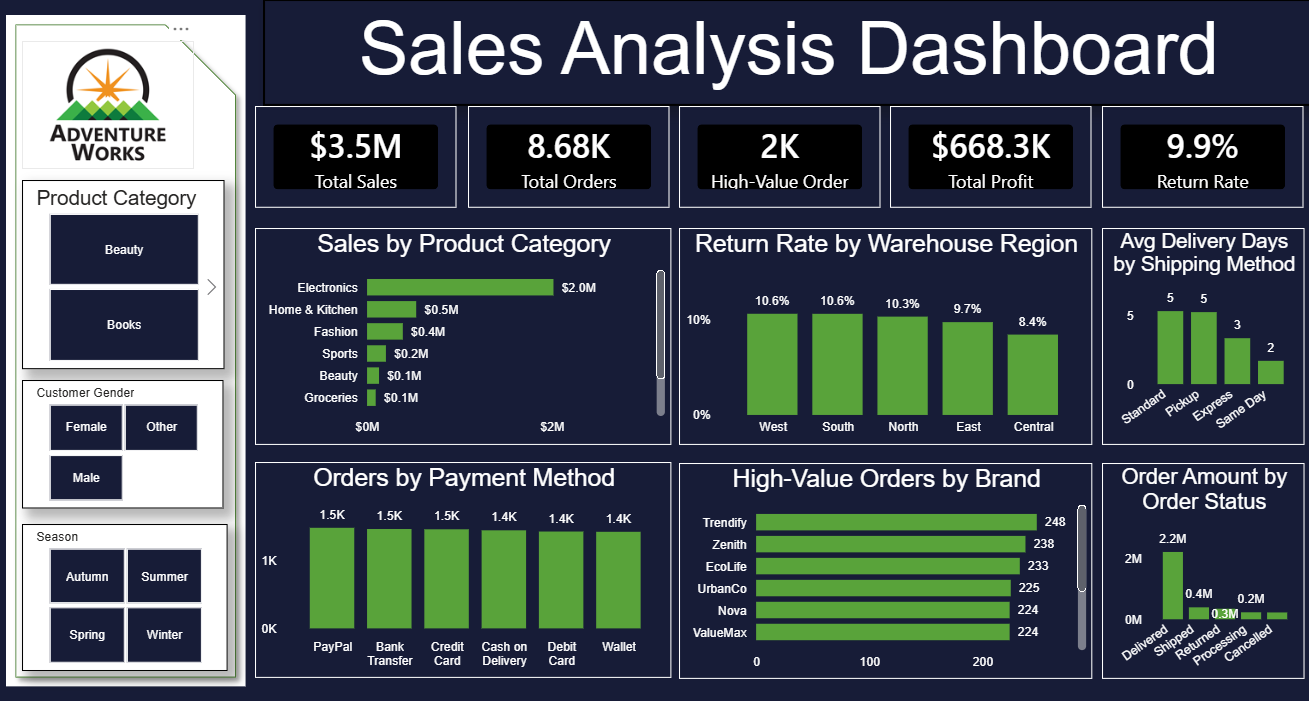

The dashboard page shown, as its layout file describes it:
{"tool":"powerbi","page":{"name":"Page 2","canvas":[1280,720],"ordinal":2},"visuals":[{"type":"shape","box":[7,48,232.8,653.5],"z":0},{"type":"textbox","box":[256.8,32.1,1023.2,104.1],"z":1000},{"type":"image","box":[22,72.9,167.3,124.5],"z":2000},{"type":"cardVisual","fields":{"Data":["Sum(dataset.Total Sale)"]},"box":[249,136.2,196.5,99.2],"z":3000},{"type":"cardVisual","fields":{"Data":["Sum(dataset.Profit_Amount)"]},"box":[866.6,136.2,196.5,99.2],"z":4000},{"type":"cardVisual","fields":{"Data":["dataset.Total High Value Order"]},"box":[661.4,136.2,196.5,99.2],"z":5000},{"type":"cardVisual","fields":{"Data":["dataset.total orders"]},"box":[456.2,136.2,196.5,99.2],"z":6000},{"type":"cardVisual","fields":{"Data":["dataset.return rate"]},"box":[1072.8,136.2,196.5,99.2],"z":7000},{"type":"slicer","fields":{"Values":["dataset.Product_Category"]},"box":[22,207.8,196.8,183.9],"z":8000},{"type":"slicer","fields":{"Values":["dataset.Customer_Gender"]},"box":[22.4,402.7,196.5,125.5],"z":9000},{"type":"slicer","fields":{"Values":["dataset.Season"]},"box":[22.4,542.7,200.4,143],"z":10000},{"type":"clusteredBarChart","title":"Sales by Product Category","fields":{"Category":["dataset.Product_Category"],"Y":["Sum(dataset.Total Sale)"]},"box":[248.8,254.8,404.7,210.8],"z":11000},{"type":"clusteredColumnChart","title":"Return Rate by Warehouse Region","fields":{"Category":["dataset.Warehouse_Region"],"Y":["dataset.return rate"]},"box":[661.5,254.8,401.7,210.8],"z":12000},{"type":"clusteredColumnChart","title":"Orders by Payment Method","fields":{"Category":["dataset.Payment_Method"],"Y":["dataset.total orders"]},"box":[248.8,482.6,404.7,209.8],"z":13000},{"type":"barChart","title":"High-Value Orders by Brand","fields":{"Y":["dataset.Total High Value Order"],"Category":["dataset.Brand"]},"box":[661,483,402,210],"z":14000},{"type":"columnChart","title":"Avg Delivery Days by Shipping Method","fields":{"Category":["dataset.Shipping_Method"],"Y":["dataset.Avg Delivery Days"]},"box":[1073.2,254.8,196.8,210.8],"z":15000},{"type":"clusteredColumnChart","title":"Order Amount by Order Status","fields":{"Category":["dataset.Order_Status"],"Y":["Sum(dataset.Order_Amount)"]},"box":[1073,483,197,210],"z":16000}]}

Visuals, with their boxes on the page's 1280x720 design canvas (x1, y1, x2, y2). These are canvas units, not pixel positions in the 1309x701 screenshot, which may show the page scaled, cropped or inside an application window:
shape: l=7, t=48, r=240, b=702
textbox: l=257, t=32, r=1280, b=136
image: l=22, t=73, r=189, b=197
cardVisual - Sum(dataset.Total Sale): l=249, t=136, r=446, b=235
cardVisual - Sum(dataset.Profit_Amount): l=867, t=136, r=1063, b=235
cardVisual - dataset.Total High Value Order: l=661, t=136, r=858, b=235
cardVisual - dataset.total orders: l=456, t=136, r=653, b=235
cardVisual - dataset.return rate: l=1073, t=136, r=1269, b=235
slicer - dataset.Product_Category: l=22, t=208, r=219, b=392
slicer - dataset.Customer_Gender: l=22, t=403, r=219, b=528
slicer - dataset.Season: l=22, t=543, r=223, b=686
"Sales by Product Category" clusteredBarChart: l=249, t=255, r=654, b=466
"Return Rate by Warehouse Region" clusteredColumnChart: l=662, t=255, r=1063, b=466
"Orders by Payment Method" clusteredColumnChart: l=249, t=483, r=654, b=692
"High-Value Orders by Brand" barChart: l=661, t=483, r=1063, b=693
"Avg Delivery Days by Shipping Method" columnChart: l=1073, t=255, r=1270, b=466
"Order Amount by Order Status" clusteredColumnChart: l=1073, t=483, r=1270, b=693
